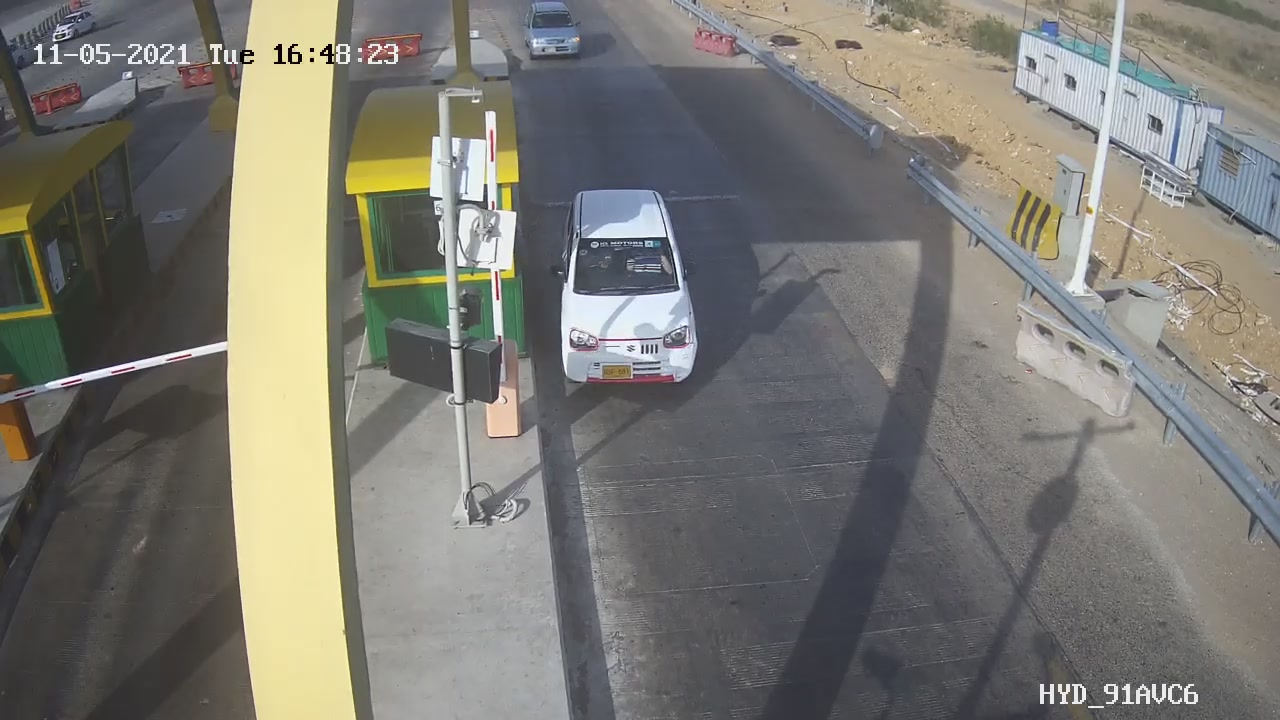F1: (540, 178, 716, 400)
